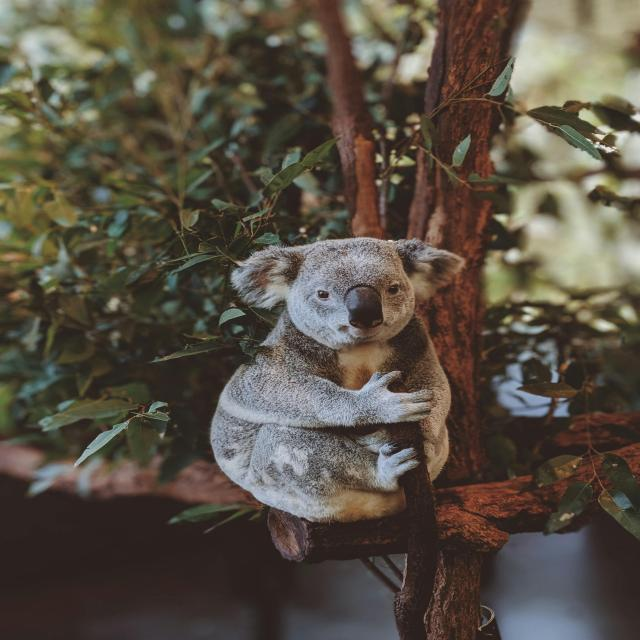Koala: (200, 234, 480, 525)
